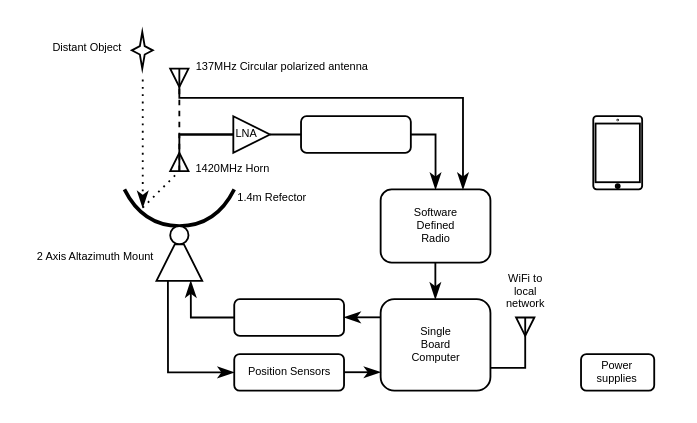
The diagram is 697 pixels wide and 423 high, and some of its shapes have lost their labels. Here are the shapes that lost their labels. From the top down, the centre of each, then its label:
(355,133): EQ, Filter, Amps
(616,151): UI on Phone/Tablet
(288,316): Motor Controller
